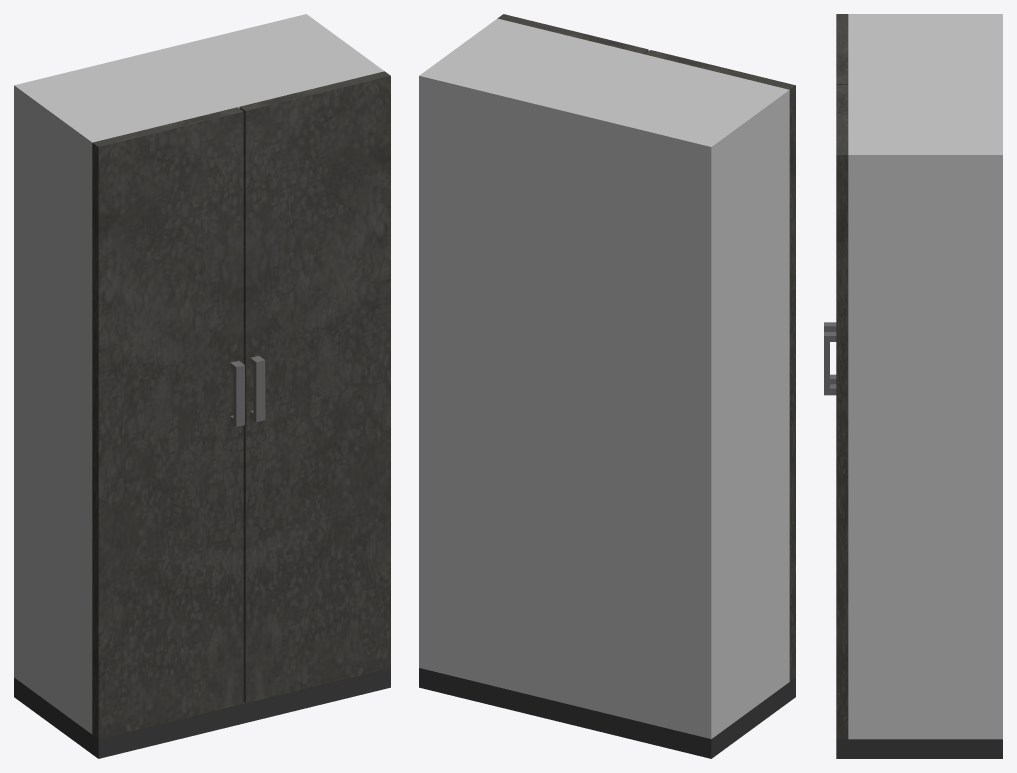
File: Armario.fbx
3 renders of one model, left to right at view 1: azimuth 30°, elevation 25°; view 2: azimuth 150°, elevation 25°; view 3: azimuth 270°, elevation 25°, orthographic.
Parts seen in each view (by area): view 1: porta, porta.001, armario, pegador.001, pegador; view 2: armario, porta, porta.001; view 3: armario, porta.001, porta, pegador.001.
Boxes of the visible parts, x1,y1,x2,y2 form: porta: [92, 107, 243, 738]; porta.001: [239, 71, 390, 703]; armario: [14, 14, 390, 758]; pegador.001: [250, 356, 265, 422]; pegador: [230, 360, 244, 426]; armario: [419, 18, 795, 758]; porta: [645, 50, 795, 681]; porta.001: [497, 14, 648, 54]; armario: [836, 14, 1002, 758]; porta.001: [836, 85, 848, 739]; porta: [836, 14, 848, 84]; pegador.001: [824, 332, 836, 395].
Bounding box in the file's own units: 376 × 751 × 201.
